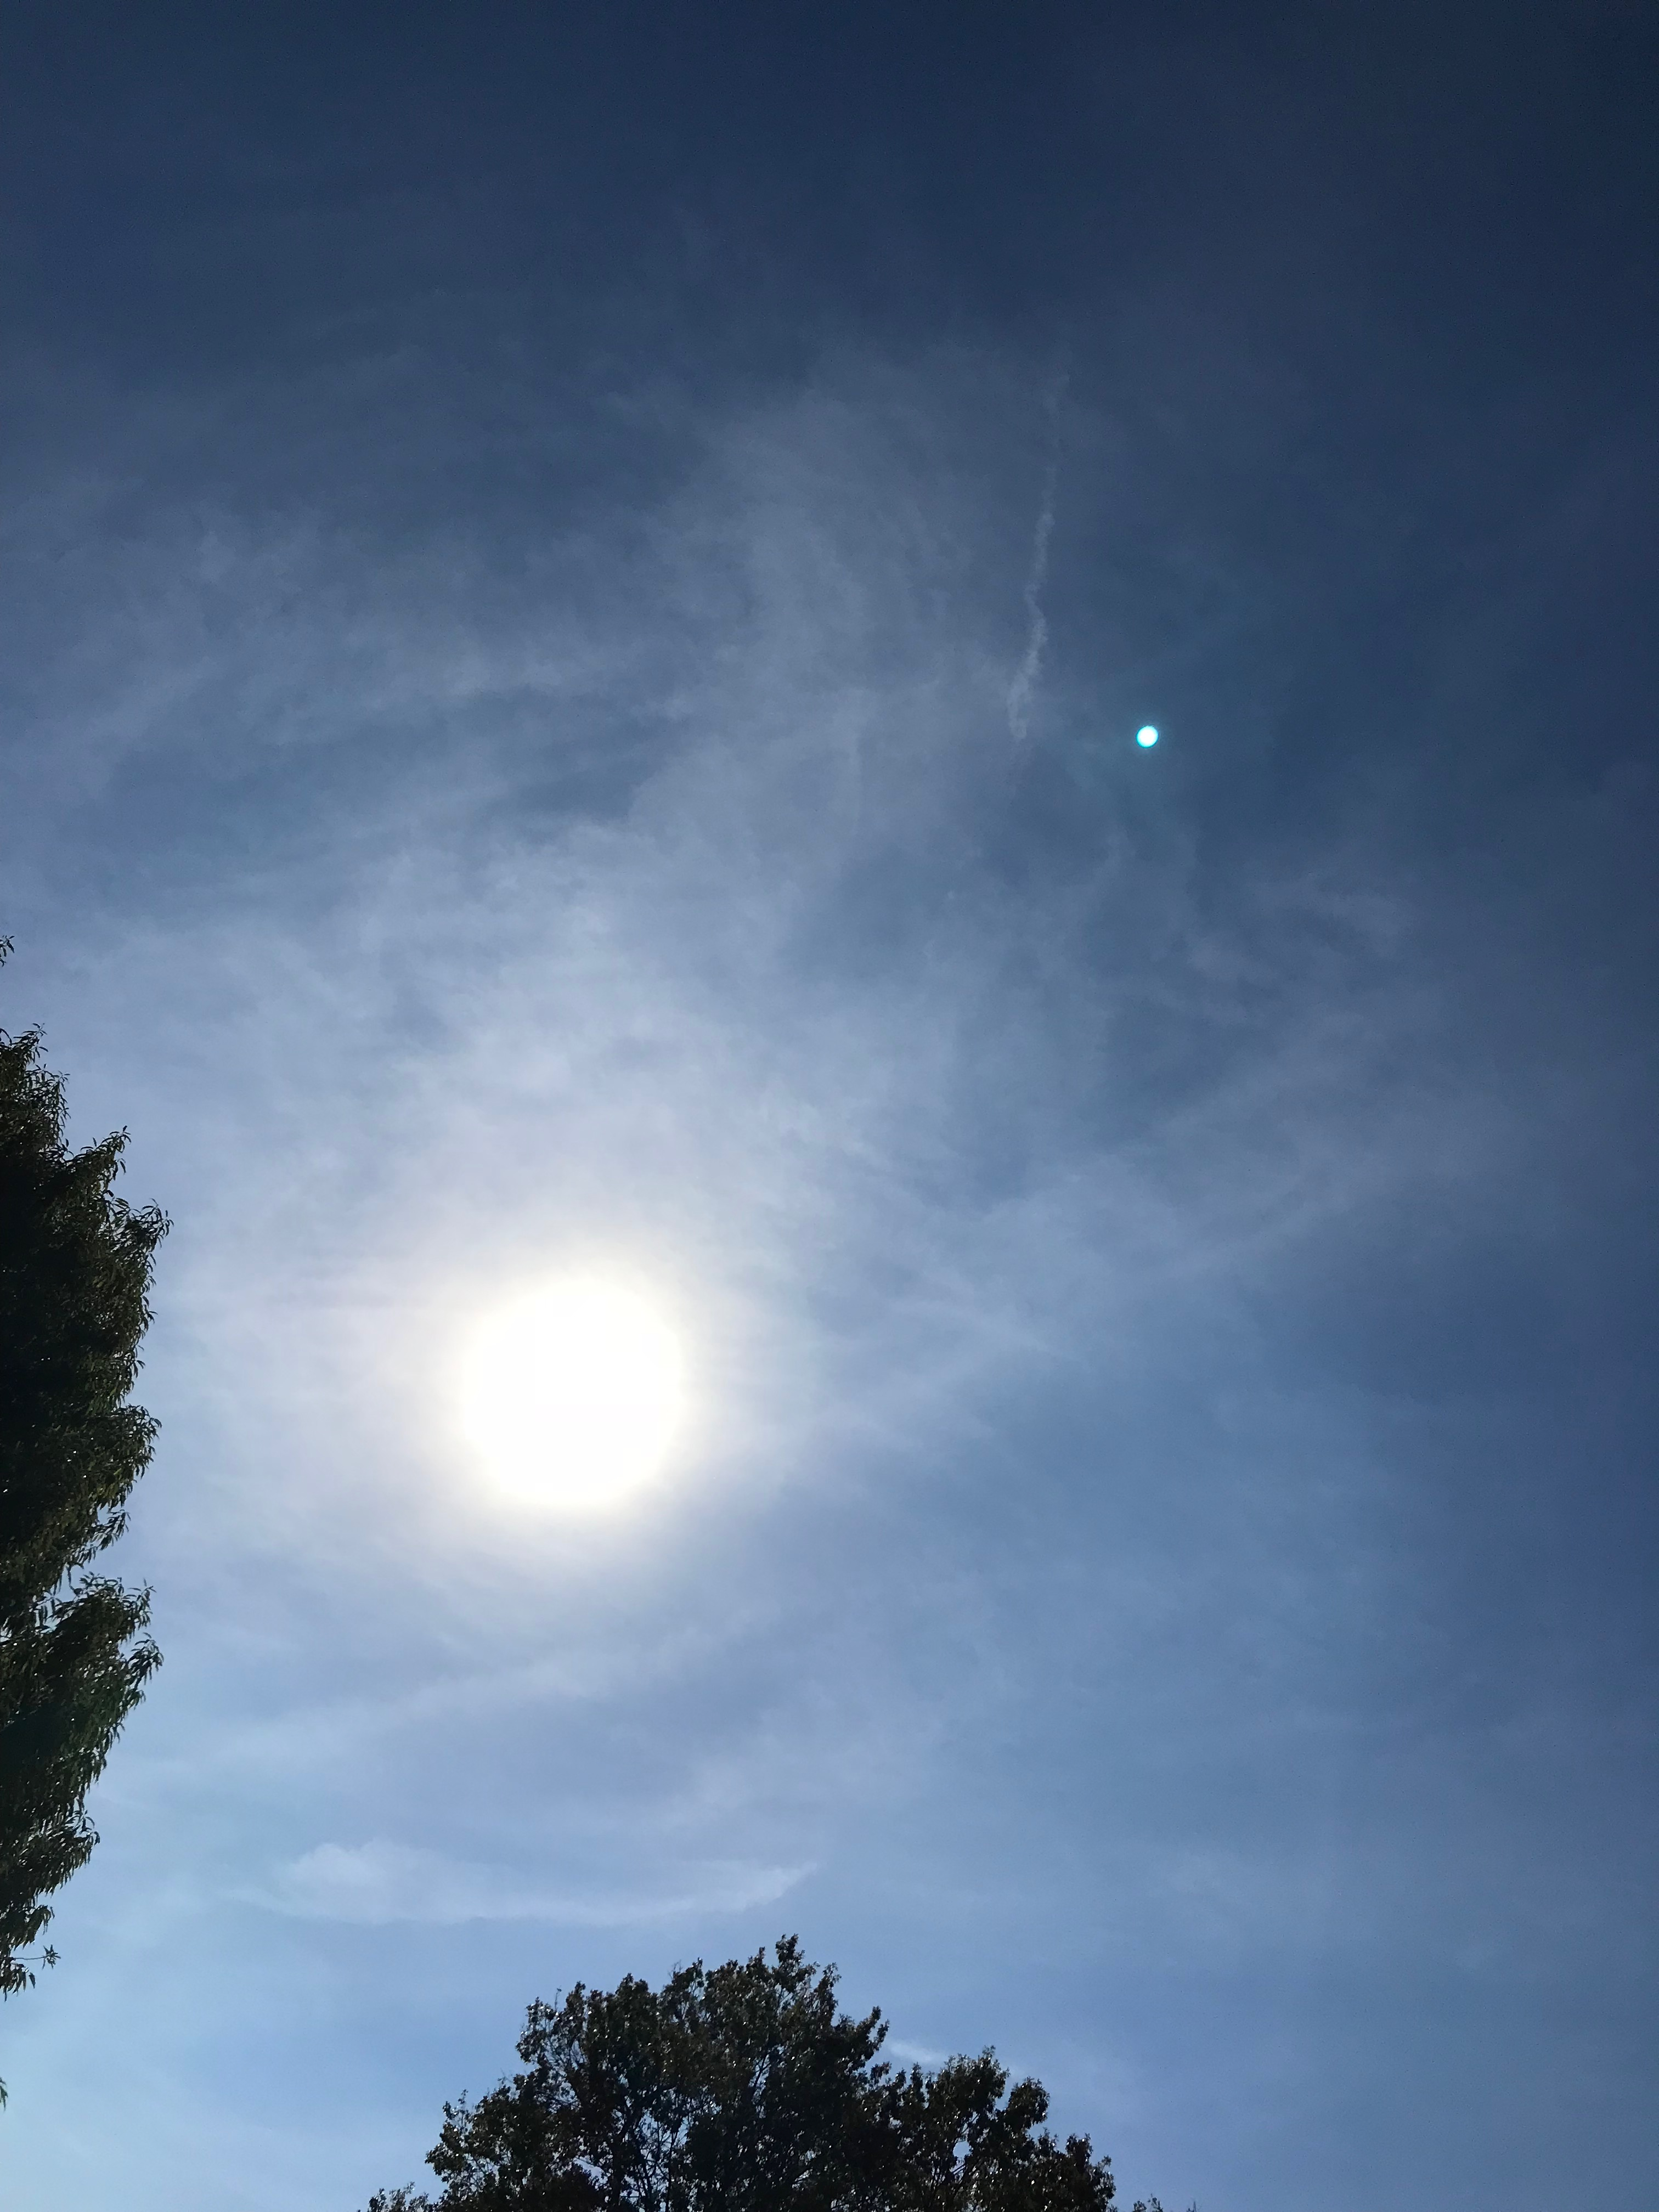flare: (1134, 723, 1161, 749)
